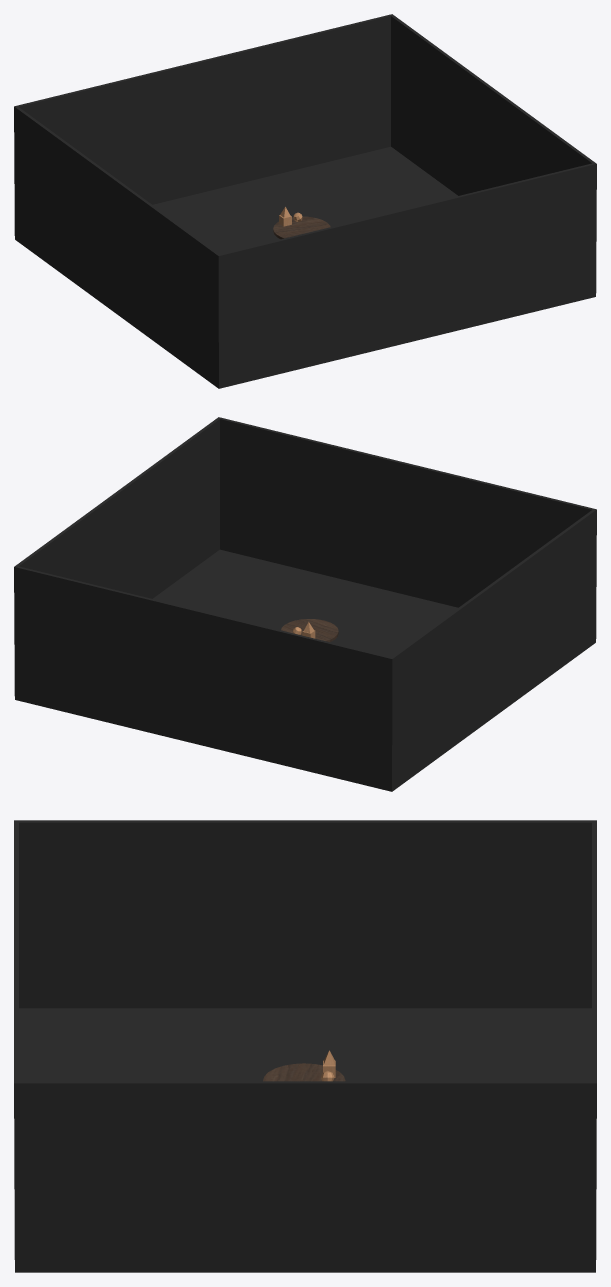
File: I_tutorial_room.fbx
The picture shows the model from 3 angles, top to bottom: view 1: azimuth 30°, elevation 25°; view 2: azimuth 150°, elevation 25°; view 3: azimuth 270°, elevation 25°; orthographic projection. The views are drawn at different scales.
Parts seen in each view (by area): view 1: Box001, Cone001; view 2: Box001, Cone001; view 3: Box001, Cone001.
Boxes of the visible parts, <box> form: Box001: <box>14,14,596,388</box>; Cone001: <box>273,216,330,239</box>; Box001: <box>14,417,596,791</box>; Cone001: <box>281,619,338,642</box>; Box001: <box>14,820,596,1272</box>; Cone001: <box>263,1063,345,1081</box>.
Bounding box in the file's own units: 181 × 60.81 × 170.
